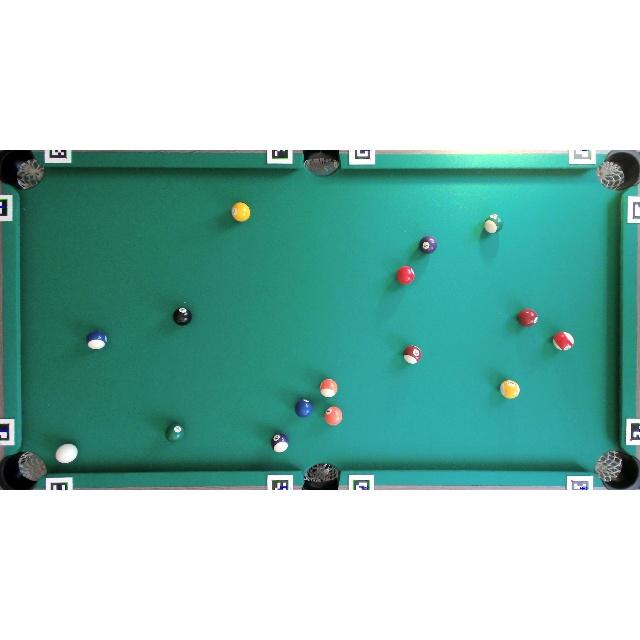cue ball: (55, 443, 78, 464)
other: (552, 332, 574, 351), (231, 201, 250, 222), (86, 331, 107, 350), (323, 406, 342, 426), (500, 380, 520, 399), (403, 345, 422, 364), (270, 433, 288, 453), (166, 422, 184, 442), (295, 398, 313, 418), (484, 214, 502, 234), (518, 308, 538, 326), (173, 307, 192, 325), (319, 379, 338, 397), (396, 266, 415, 284), (419, 236, 437, 254)
